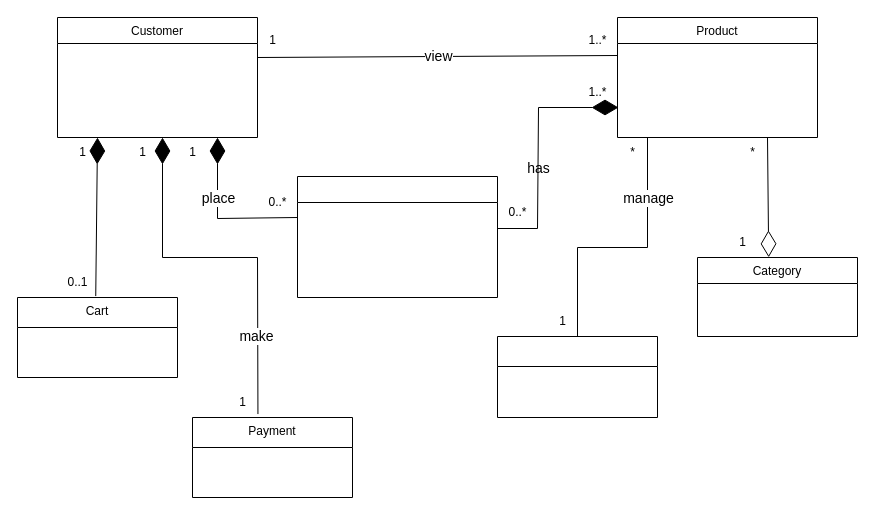
This 875x515 diagram has some shape labels left out. Here are the shapes that lost their labels. From the top down, the box of each, then its label:
(296, 176, 498, 298): Order
(496, 336, 658, 418): Business Owner
